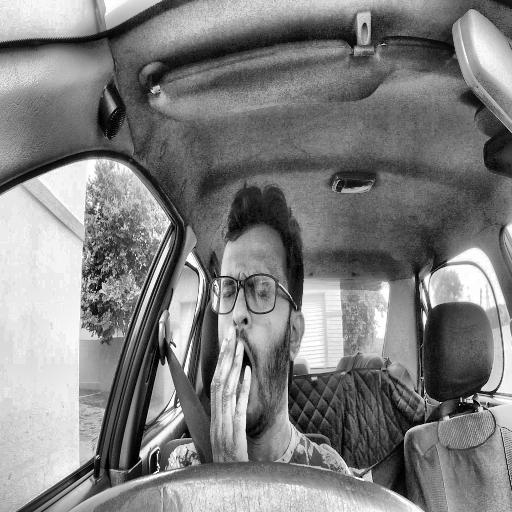drowsy: (208, 186, 307, 434)
